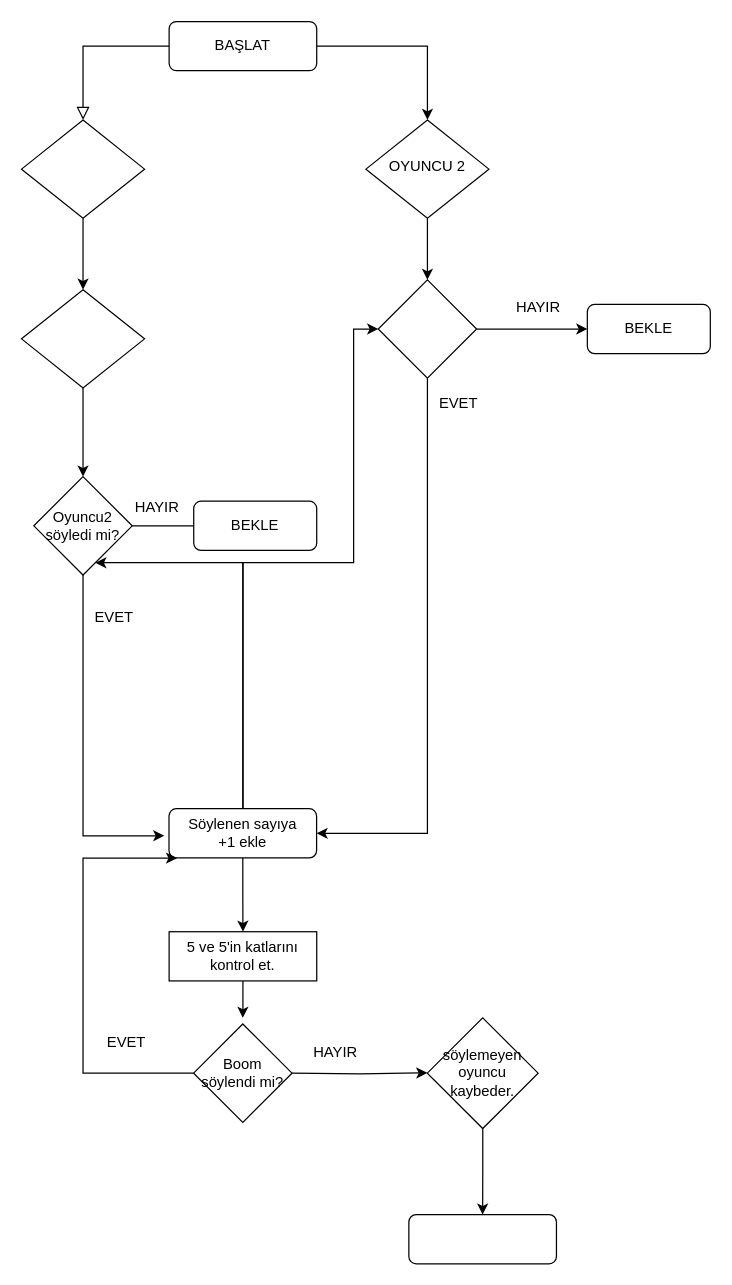
Some shapes in this 732 by 1285 pixel diagram are drawn without their labels. Each missing label, with the centre of its shape:
"1'den başla" goes at (x=82, y=338).
"BİTİR" goes at (x=482, y=1238).
"OYUNCU 1" goes at (x=82, y=168).
"Oyuncu 1 söyledi mi?" goes at (x=427, y=328).
